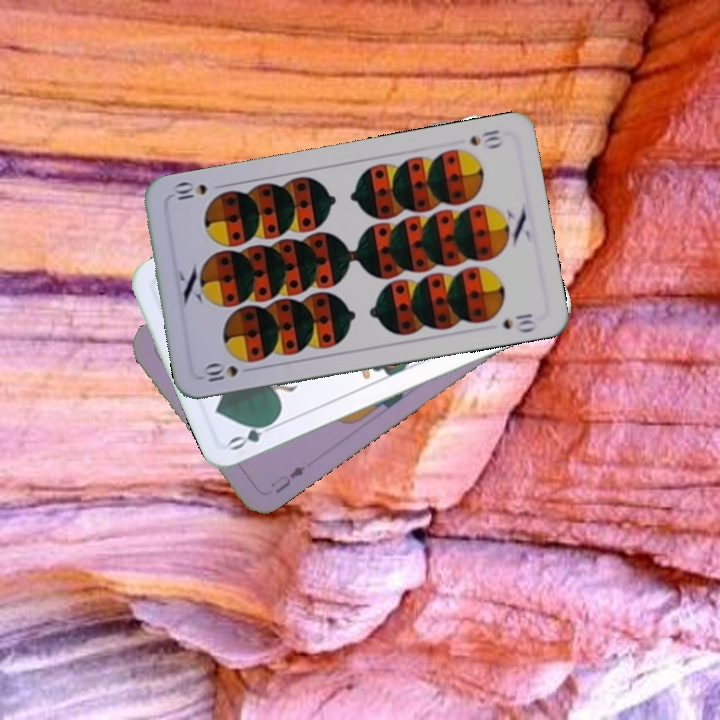EU: (266, 461, 309, 496)
GO: (224, 414, 282, 454)
S10: (465, 125, 506, 151), (199, 361, 241, 385)
